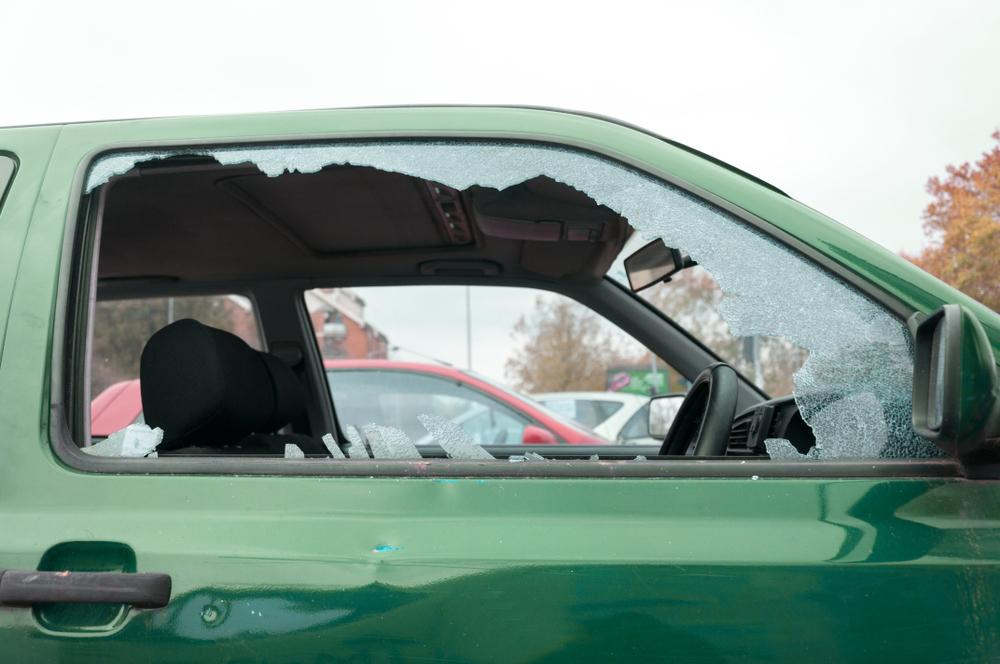glass shatter: (67, 141, 953, 460)
